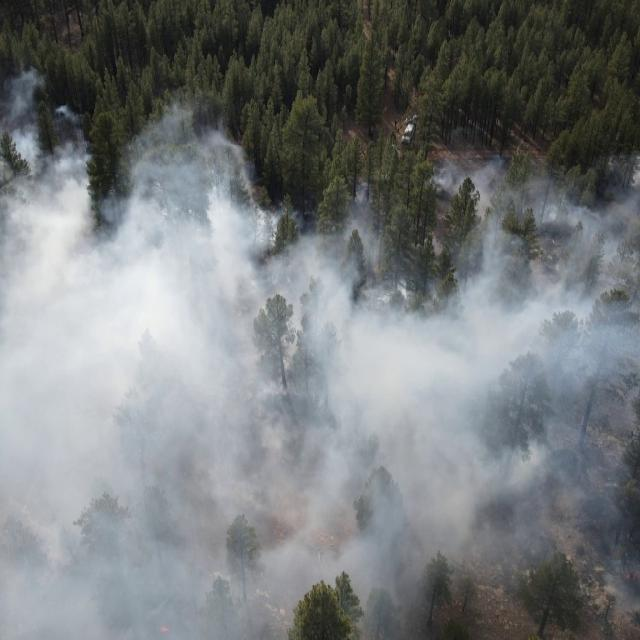fire: (615, 558, 640, 592), (149, 619, 179, 640)
smoke: (0, 161, 640, 639), (0, 66, 100, 160), (118, 102, 259, 162)
